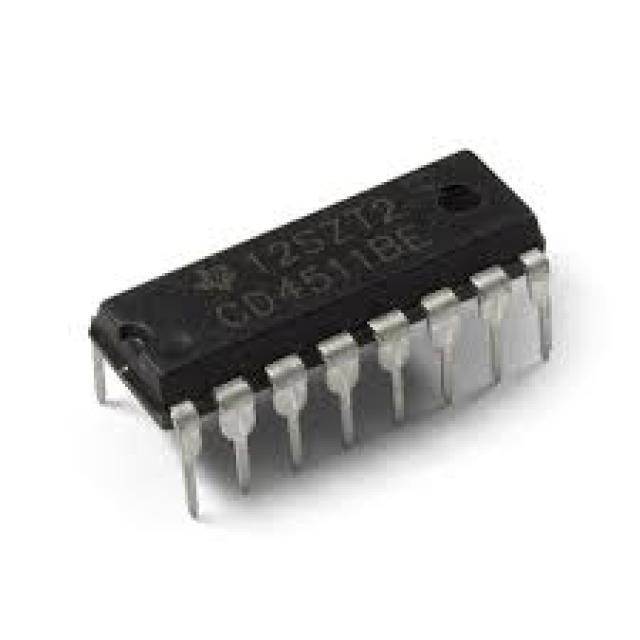IC: (90, 150, 552, 522)
